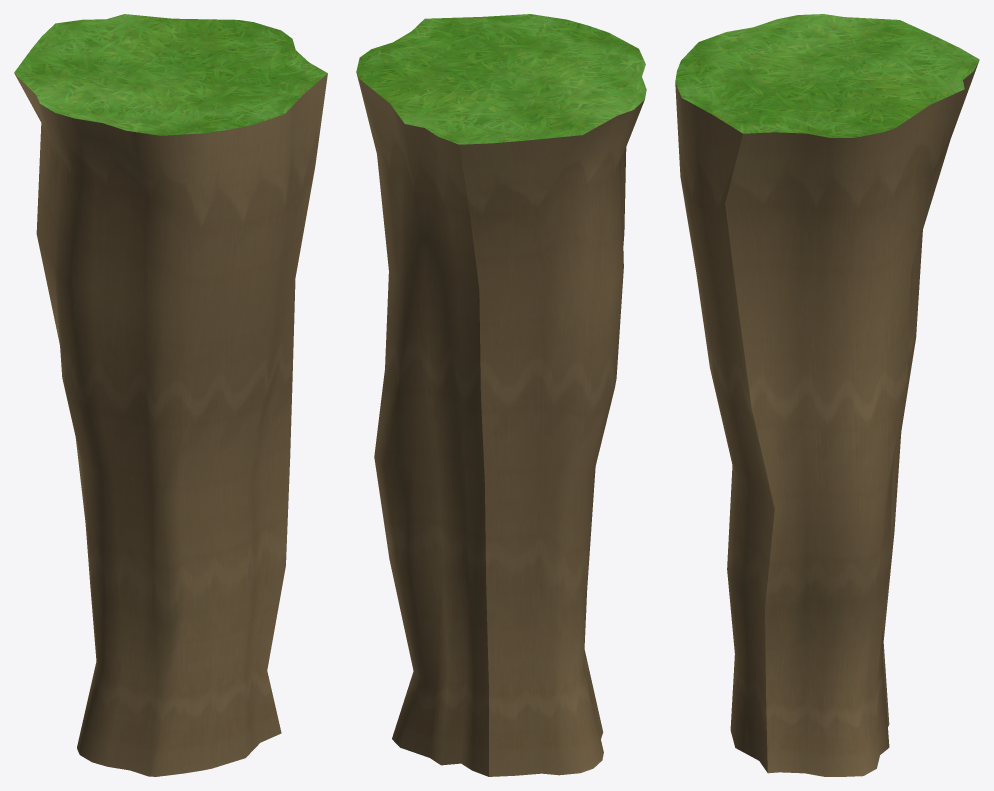
The model's file is lvl1_plat019.FBX.
3 views of the same model, side by side, from view 1: azimuth 30°, elevation 25°; view 2: azimuth 150°, elevation 25°; view 3: azimuth 270°, elevation 25° (orthographic).
Parts seen in each view (by area): view 1: lvl1_plat_019, lvl1_plat_019_grass; view 2: lvl1_plat_019, lvl1_plat_019_grass; view 3: lvl1_plat_019, lvl1_plat_019_grass.
Boxes of the visible parts, box(x1,y1,x2,y2) form: lvl1_plat_019: box(14, 73, 327, 776); lvl1_plat_019_grass: box(14, 14, 327, 135); lvl1_plat_019: box(356, 72, 644, 776); lvl1_plat_019_grass: box(356, 14, 646, 144); lvl1_plat_019: box(675, 60, 979, 776); lvl1_plat_019_grass: box(675, 14, 979, 137).
Bounding box in the file's own units: 325 × 804 × 337.
